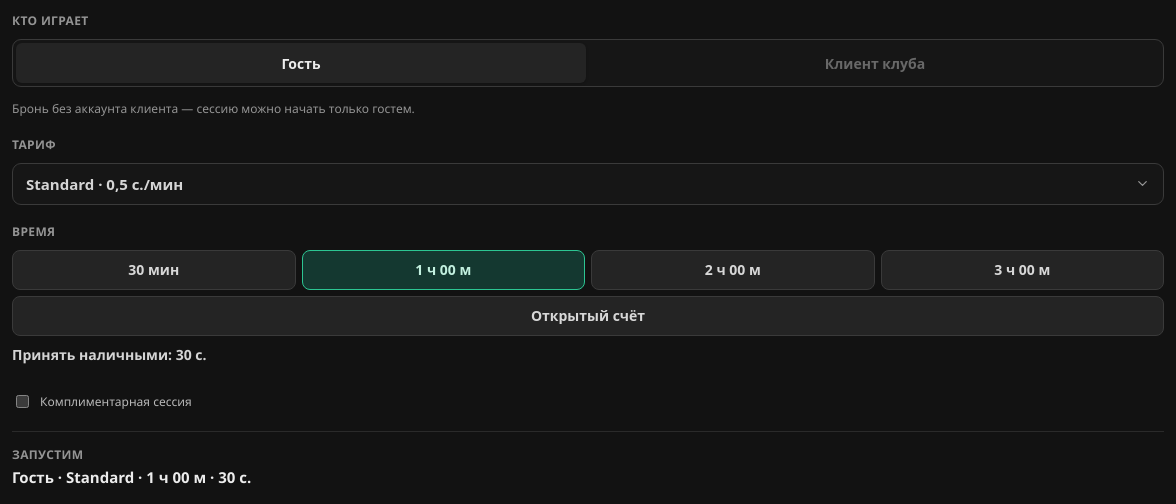
Test: SessionStartForm › names the cash a guest pays by the tariff rules, minimum and rounding included
Expected: the text "Принять наличными: 30 с." is shown, [12,346,206,365]
# Открытый счёт: денег на старте нет, оплата при расчёте.
Click the button "Открытый счёт" at coordinates (588, 316), box [12,296,1164,336]
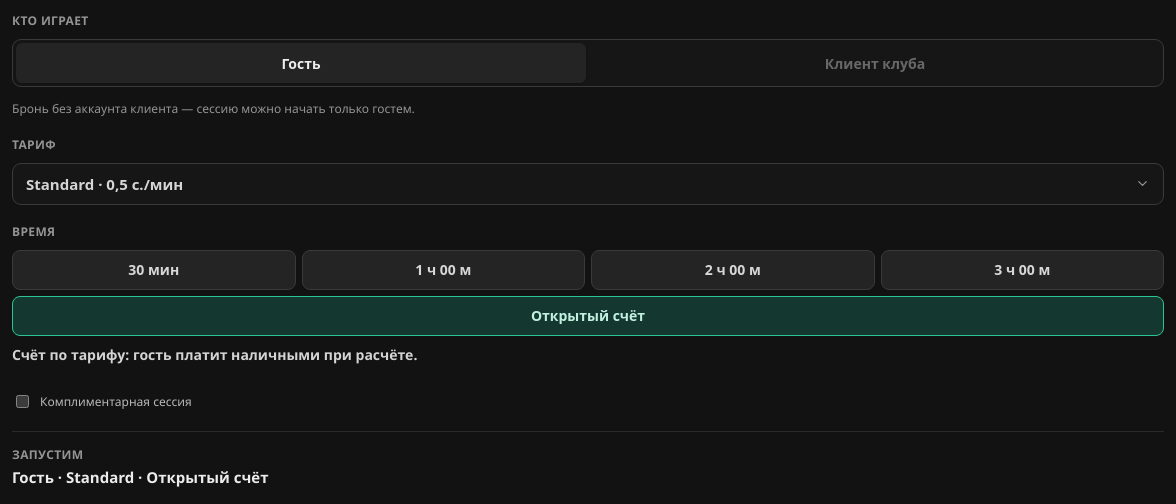
Result: the text "Счёт по тарифу: гость платит наличными при расчёте." is shown at [12,346,417,365]
